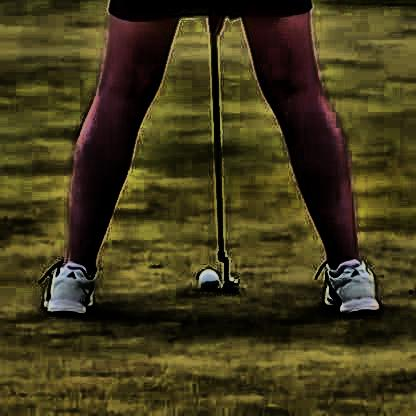golfball: (194, 265, 219, 289)
